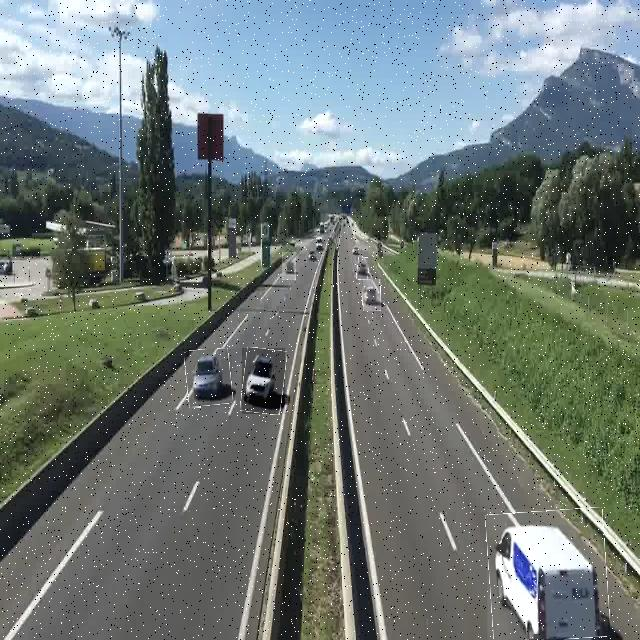Car: (242, 348, 285, 414), (186, 350, 232, 408), (363, 279, 381, 311), (282, 252, 296, 280), (356, 258, 369, 280)
Truck: (487, 509, 608, 640)
